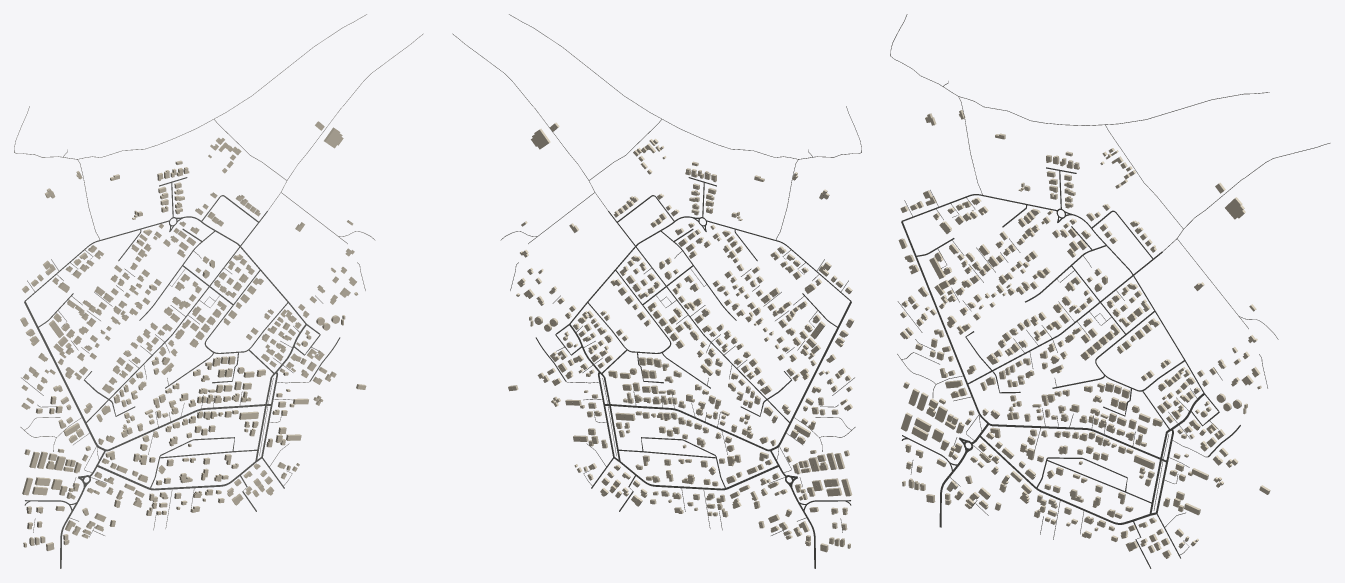
File: historic-palestine-07_28_3491_3228.glb
The picture shows the model from 3 angles, left to right: view 1: azimuth 30°, elevation 25°; view 2: azimuth 150°, elevation 25°; view 3: azimuth 330°, elevation 25°; orthographic projection. The views are drawn at different scales.
Size of the model in its own units: 1155 by 1293 by 8.7.
